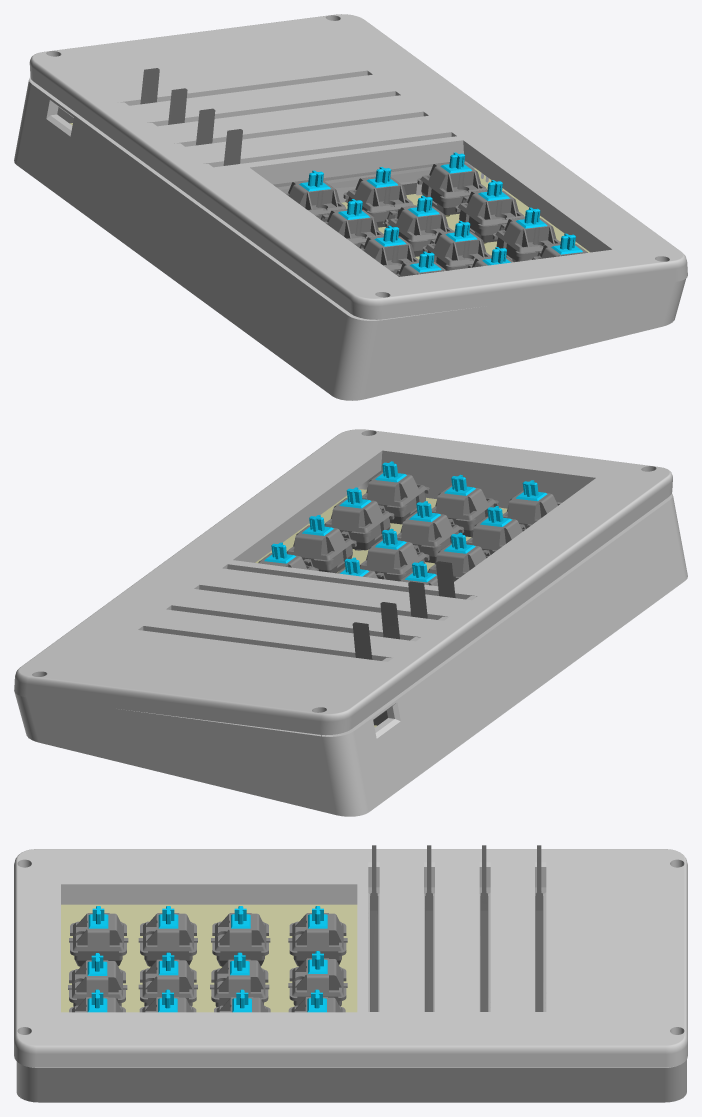
Rendered from axionpad.glb.
3 renders of one model, top to bottom at view 1: azimuth 30°, elevation 25°; view 2: azimuth 150°, elevation 25°; view 3: azimuth 270°, elevation 25°, orthographic.
Parts seen in each view (by area): view 1: top, body axion, OBJ_PCB_AXION_V1_PCB_2, cherry mx.011, cherry mx.010, cherry mx.009, cherry mx.004, cherry mx.005, cherry mx.006, cherry mx.003, cherry mx.002, cherry mx.001 (+2 smaller); view 2: top, body axion, OBJ_PCB_AXION_V1_PCB_2, cherry mx.009, cherry mx.010, cherry mx.008, cherry mx.006, cherry mx.007, cherry mx.005, cherry mx.001, cherry mx, cherry mx.002 (+1 smaller); view 3: top, body axion, OBJ_PCB_AXION_V1_PCB_2, cherry mx, cherry mx.002, cherry mx.001, cherry mx.003, cherry mx.004, cherry mx.005, cherry mx.006, cherry mx.007, cherry mx.009 (+3 smaller).
Boxes of the visible parts, x1,y1,x2,y2 form: top: [29, 14, 687, 319]; body axion: [14, 77, 685, 400]; OBJ_PCB_AXION_V1_PCB_2: [57, 68, 589, 259]; cherry mx.011: [417, 152, 486, 215]; cherry mx.010: [455, 180, 524, 242]; cherry mx.009: [492, 207, 560, 262]; cherry mx.004: [343, 167, 415, 227]; cherry mx.005: [385, 195, 453, 256]; cherry mx.006: [422, 221, 491, 270]; cherry mx.003: [285, 170, 346, 221]; cherry mx.002: [324, 199, 383, 248]; cherry mx.001: [361, 225, 419, 274]; top: [14, 429, 672, 735]; body axion: [14, 470, 687, 816]; OBJ_PCB_AXION_V1_PCB_2: [255, 489, 507, 727]; cherry mx.009: [324, 487, 394, 550]; cherry mx.010: [286, 515, 356, 573]; cherry mx.008: [362, 461, 429, 524]; cherry mx.006: [397, 501, 464, 563]; cherry mx.007: [431, 474, 498, 536]; cherry mx.005: [360, 528, 429, 581]; cherry mx.001: [466, 506, 525, 555]; cherry mx: [502, 480, 560, 529]; cherry mx.002: [427, 532, 488, 581]; top: [14, 849, 687, 1067]; body axion: [16, 1059, 686, 1102]; OBJ_PCB_AXION_V1_PCB_2: [61, 845, 546, 1012]; cherry mx: [69, 906, 128, 966]; cherry mx.002: [211, 906, 270, 966]; cherry mx.001: [138, 906, 197, 966]; cherry mx.003: [288, 906, 347, 966]; cherry mx.004: [288, 951, 347, 1005]; cherry mx.005: [210, 952, 269, 1007]; cherry mx.006: [138, 952, 197, 1006]; cherry mx.007: [68, 953, 127, 1006]; cherry mx.009: [139, 989, 196, 1012].
Bounding box in the file's own units: 0.11 × 0.0385 × 0.184.
